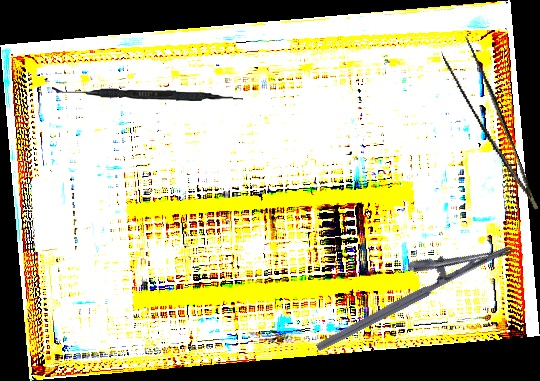Needle Holder: (301, 217, 515, 354)
Spatula Surgical: (51, 87, 244, 102)
Tissue Forceps: (438, 32, 539, 222)
